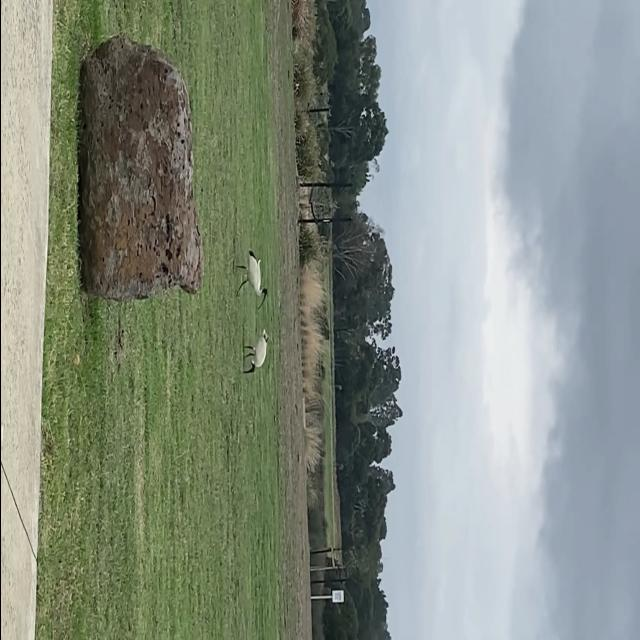Birds-Ibis: (230, 248, 270, 314), (236, 324, 272, 380)
